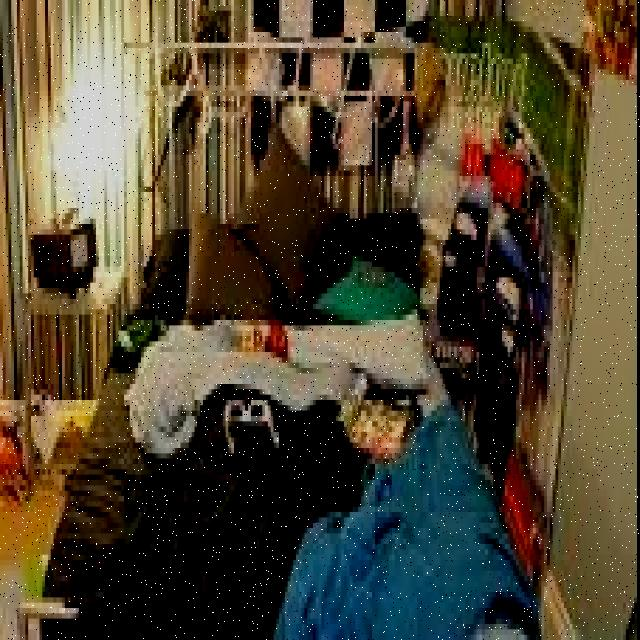bed: (34, 128, 541, 640)
